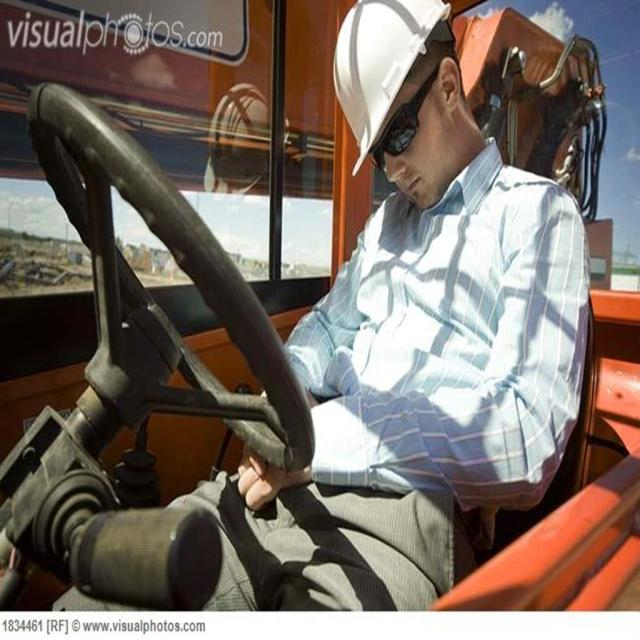Face: (358, 56, 457, 216)
